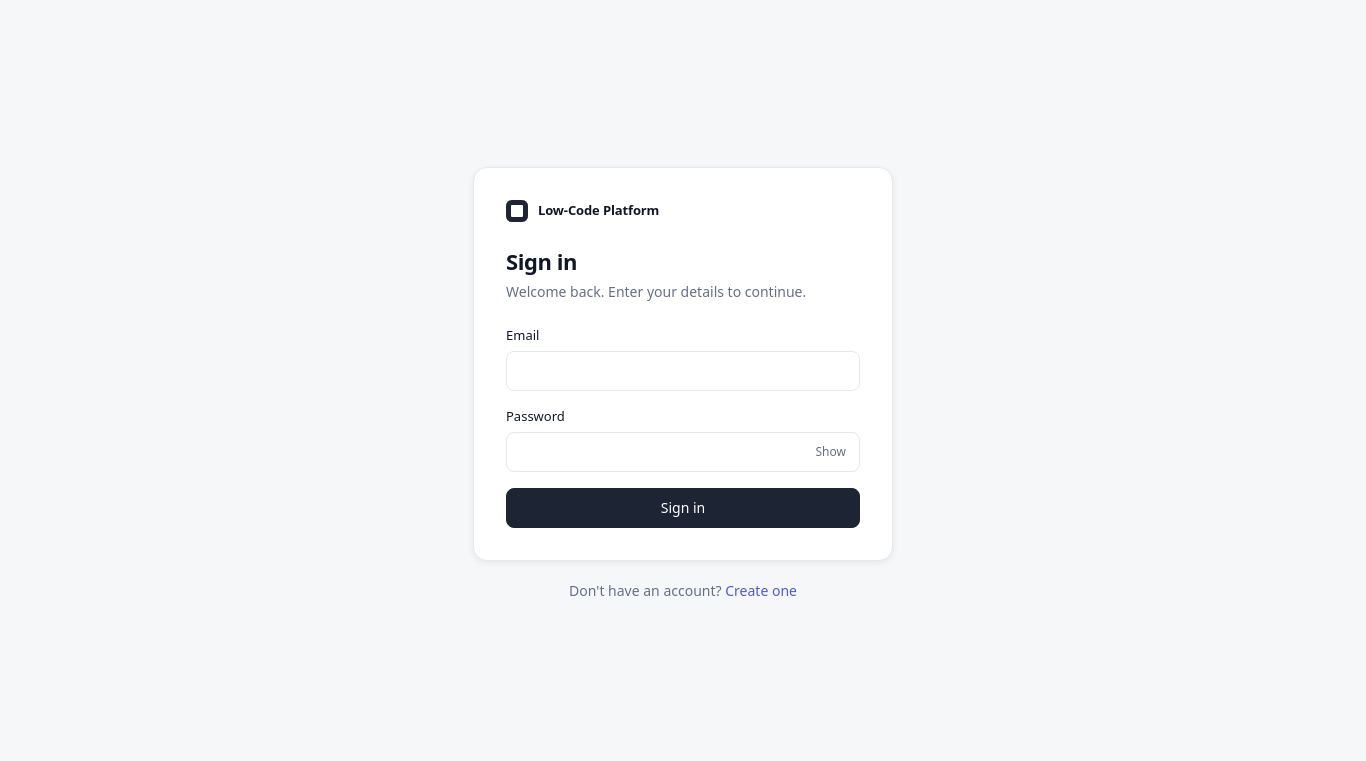
Test: LoginPage › submits the correct payload, stores auth in memory only, and opens the builder
Expected: the heading "Sign in" is shown, [506,246,577,276]
Type "  Ada@Example.com " into the field labelled "Email" at (683, 371), box [506,351,860,391]
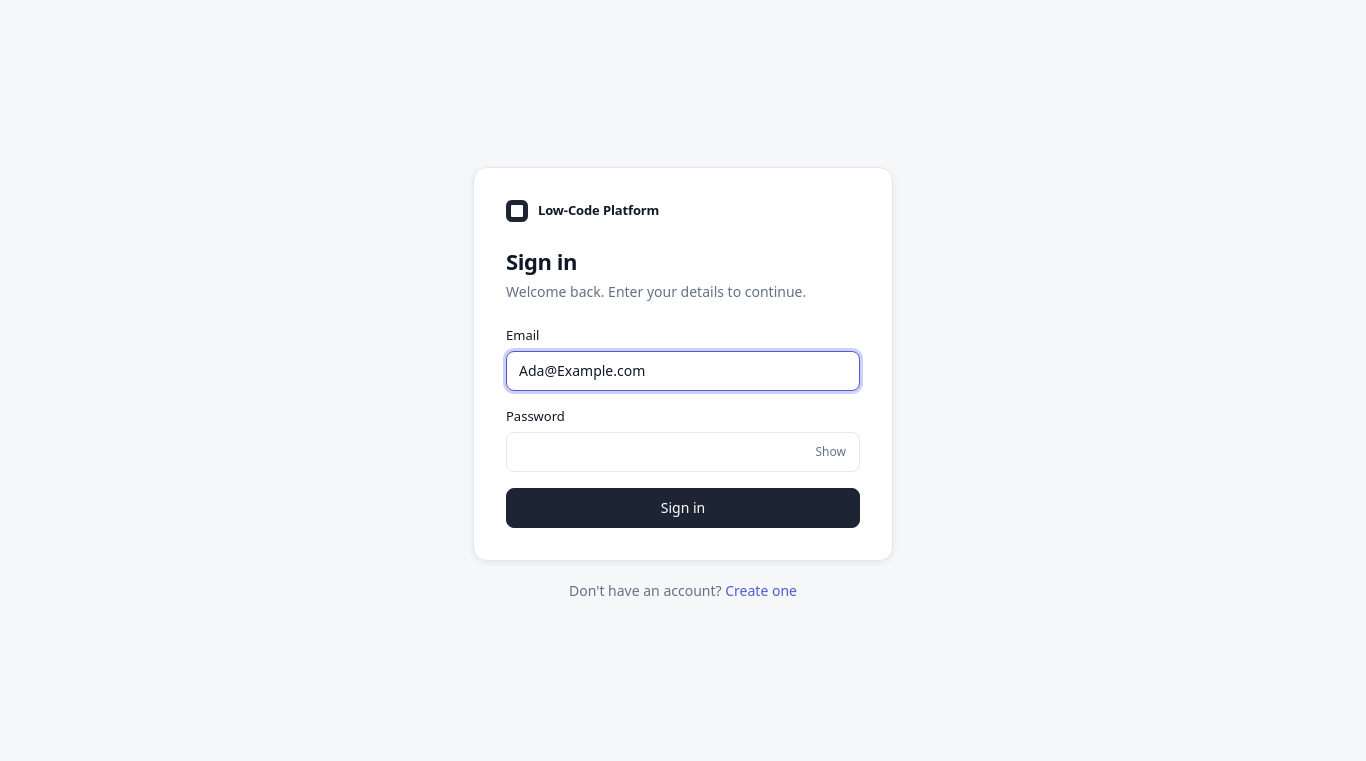
Type "Sup3r-Secret-Pass" into the password field labelled "Password" at (683, 452), box [506,432,860,472]
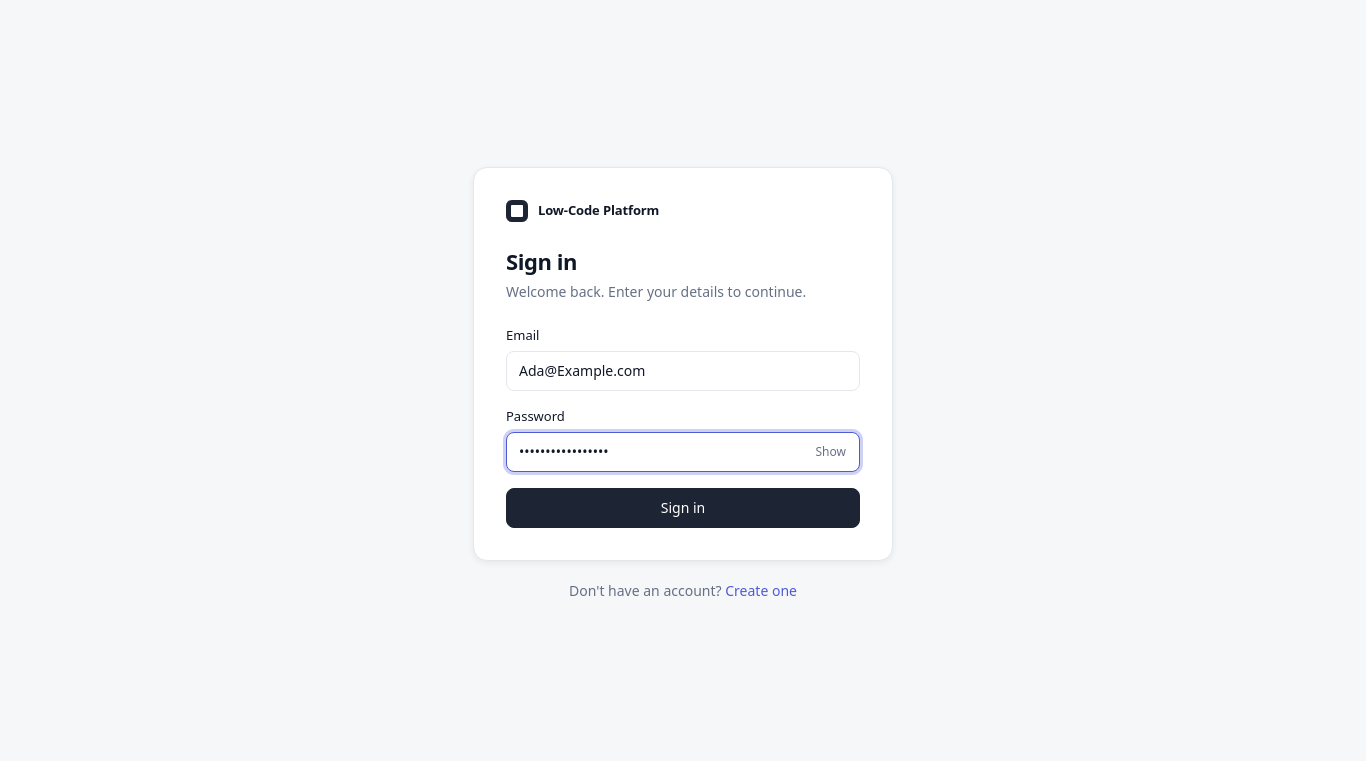
Click the button "Sign in" at (683, 508), box [506,488,860,528]
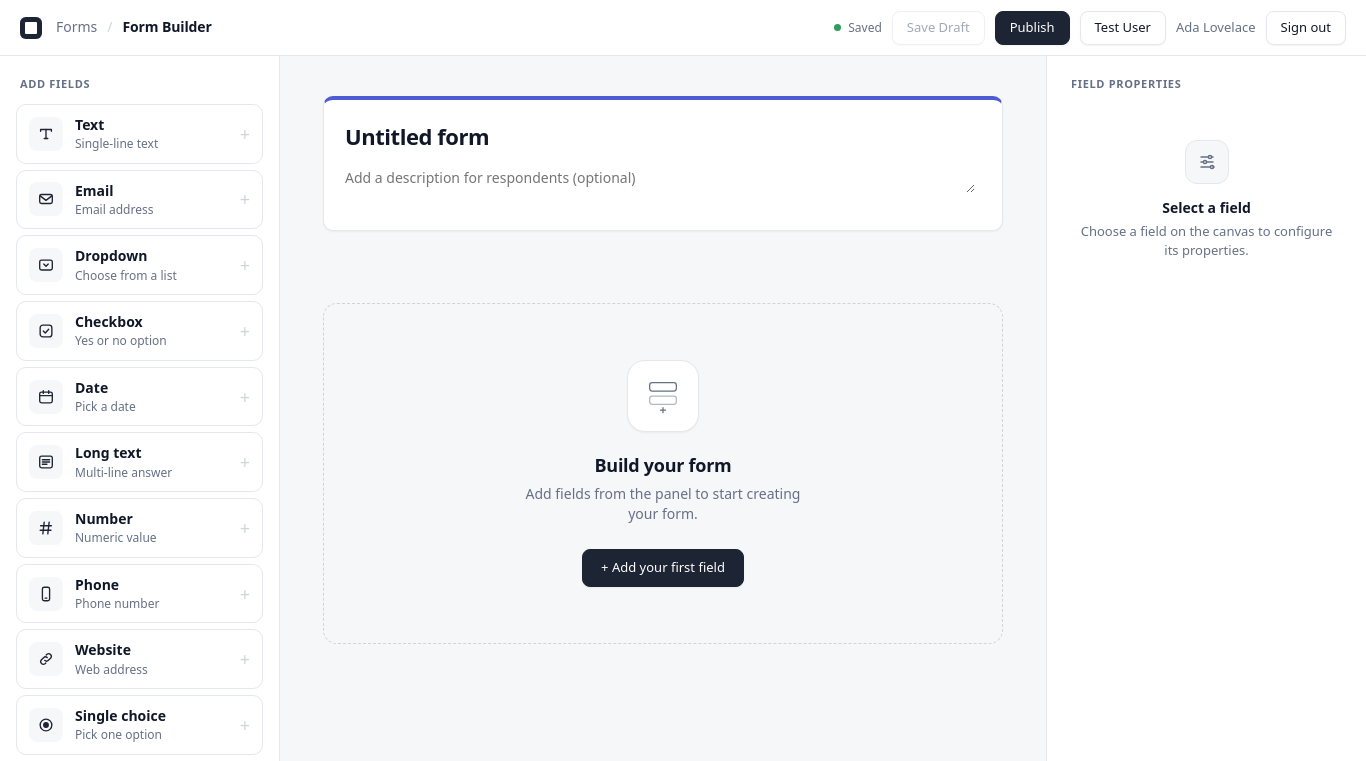
Expected: the heading "Form Builder" is shown, [122,17,212,38]
Expected: the text "Ada Lovelace" is shown, [1176,18,1256,37]
